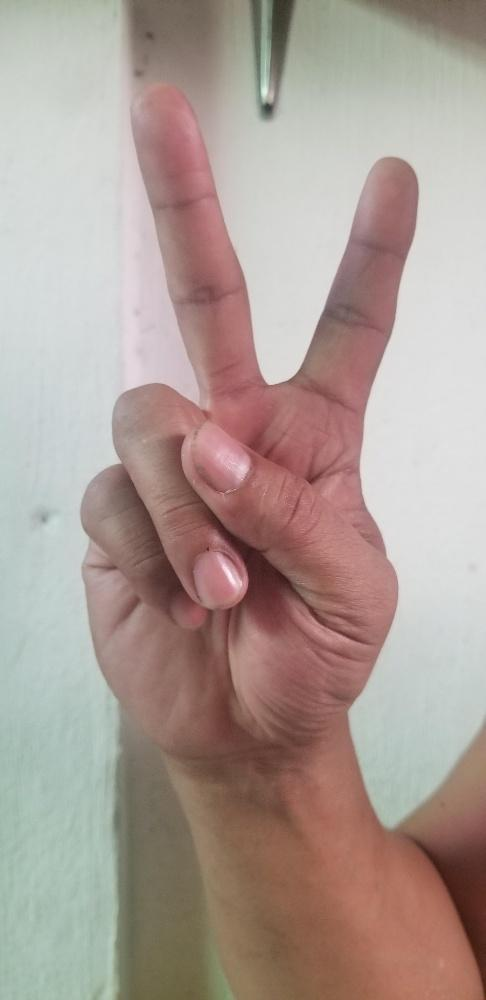v: (77, 79, 420, 734)
